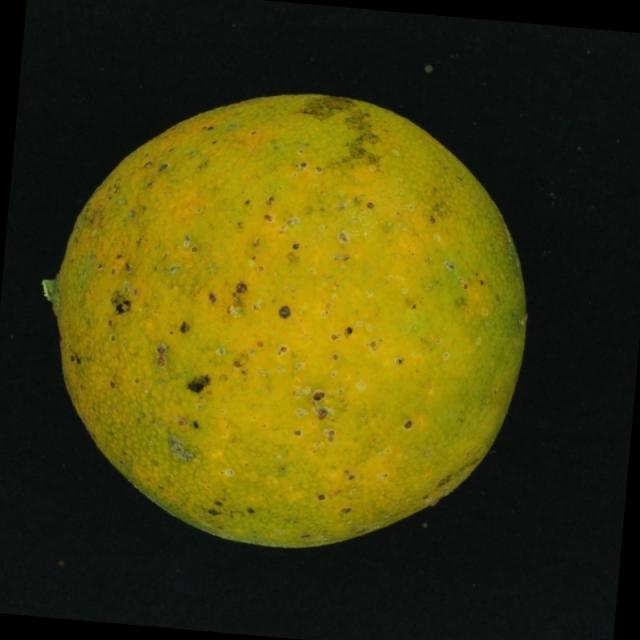grenning: (28, 54, 570, 585)
